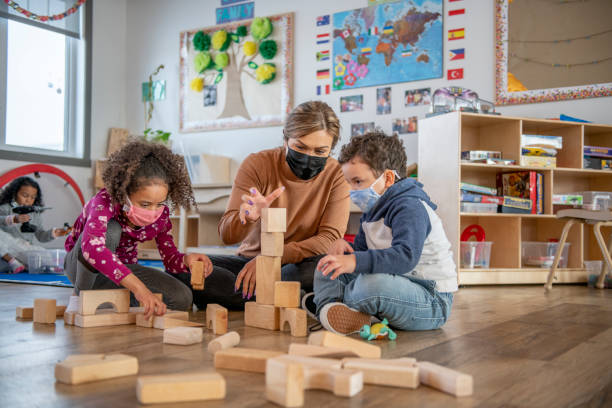with mask: (120, 161, 168, 230), (342, 140, 390, 209), (284, 112, 332, 181)
without mask: (9, 177, 41, 211)
